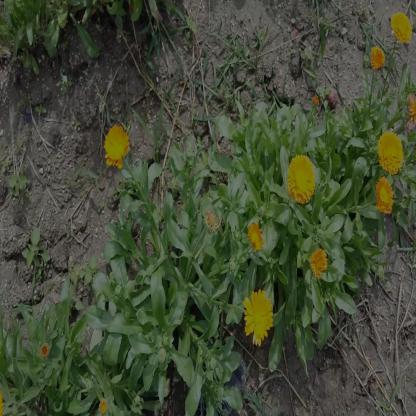marigold: (244, 290, 272, 342), (288, 155, 316, 202), (377, 130, 403, 174), (105, 122, 129, 162), (375, 179, 395, 211), (248, 219, 266, 254), (310, 250, 330, 277), (392, 13, 411, 40)
